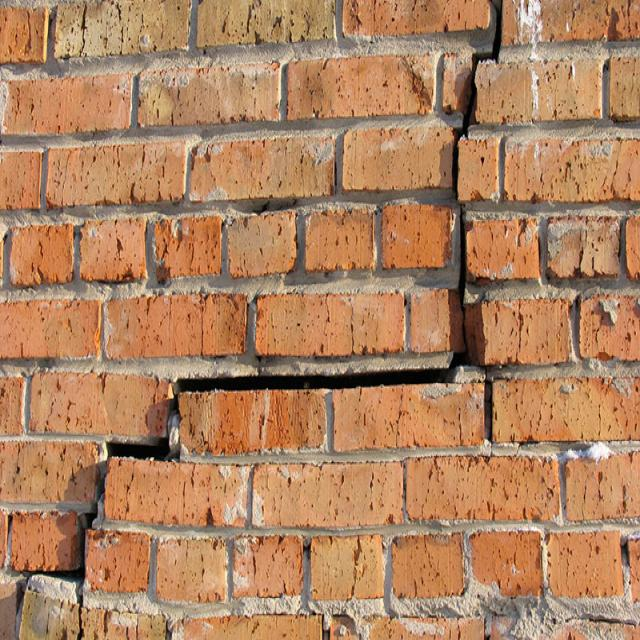Crack: (12, 0, 513, 639)
